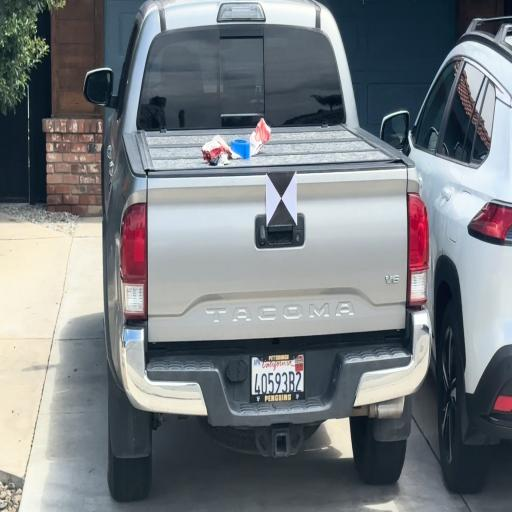target: (266, 172, 297, 224)
